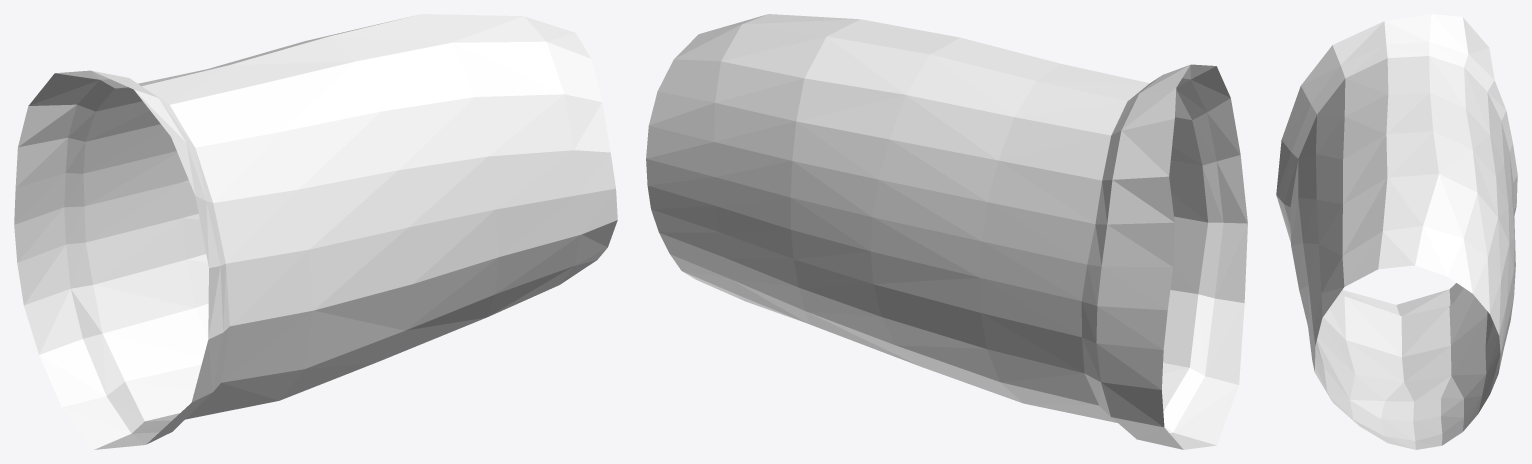
Rendered from r_upperarm.dae.
3 renders of one model, left to right at view 1: azimuth 30°, elevation 25°; view 2: azimuth 150°, elevation 25°; view 3: azimuth 270°, elevation 25°, orthographic. The views are drawn at different scales.
Parts seen in each view (by area): view 1: node; view 2: node; view 3: node.
Boxes of the visible parts, box(x1,y1,x2,y2) form: node: box(14, 14, 617, 449); node: box(646, 14, 1247, 449); node: box(1276, 14, 1517, 449).
Bounding box in the file's own units: 0.2091 × 0.139 × 0.102.
Materials: 1 (1 with a texture image).
